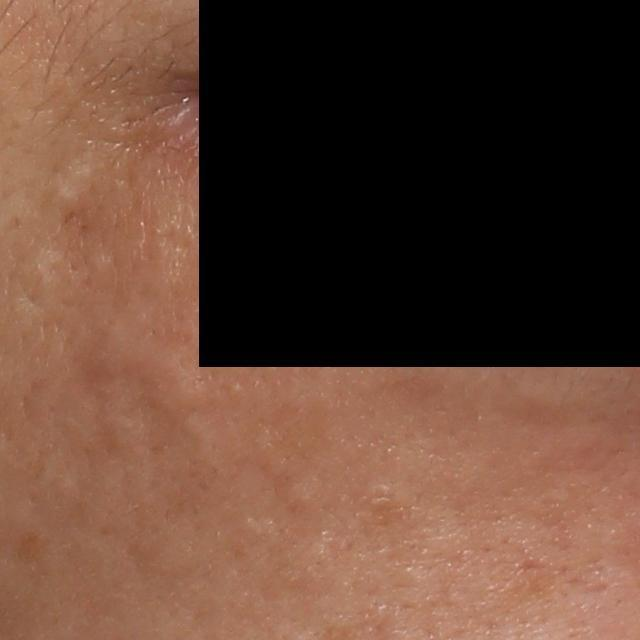hypertrophic_scar: (78, 309, 214, 417), (4, 240, 68, 352), (50, 158, 99, 216)
